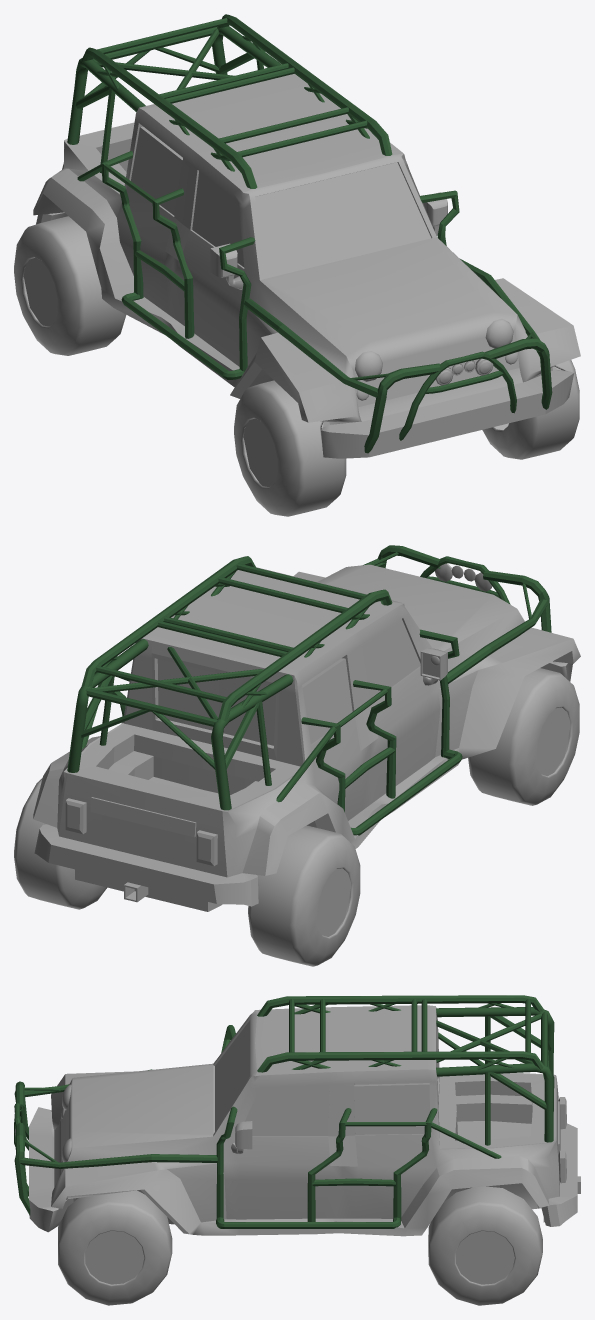
Rendered from JeepForGame1.fbx.
The picture shows the model from 3 angles, top to bottom: view 1: azimuth 30°, elevation 25°; view 2: azimuth 150°, elevation 25°; view 3: azimuth 270°, elevation 25°; orthographic projection. The views are drawn at different scales.
Parts seen in each view (by area): view 1: CutBody, Wheel_B_L, Wheel_F_L, JeepRubiconFull:MainBodyGeometryJeepBars, Wheel_F_R, pCylinder16, pCylinder1, pCylinder3, pCylinder4, pCylinder39, polySurface13, pCylinder2 (+9 smaller); view 2: CutBody, Wheel_B_L, Wheel_F_L, JeepRubiconFull:MainBodyGeometryJeepBars, Wheel_B_R, pCylinder16, pCylinder1, pCylinder22, pCylinder3, polySurface13, pCylinder39, pCylinder18 (+12 smaller); view 3: CutBody, Wheel_B_R, Wheel_F_R, JeepRubiconFull:MainBodyGeometryJeepBars, pCylinder16, pCylinder3, polySurface13, pCylinder1, pCylinder4, pCylinder22, pCylinder39, pCylinder9 (+4 smaller).
Boxes of the visible parts, bbox=[...] form: CutBody: bbox=[33, 74, 580, 458]; Wheel_B_L: bbox=[14, 216, 126, 355]; Wheel_F_L: bbox=[234, 380, 346, 516]; JeepRubiconFull:MainBodyGeometryJeepBars: bbox=[81, 14, 392, 188]; Wheel_F_R: bbox=[482, 360, 579, 459]; pCylinder16: bbox=[67, 26, 281, 144]; pCylinder1: bbox=[364, 338, 552, 453]; pCylinder3: bbox=[244, 259, 540, 397]; pCylinder4: bbox=[219, 190, 459, 371]; pCylinder39: bbox=[152, 188, 194, 338]; polySurface13: bbox=[121, 292, 244, 379]; pCylinder2: bbox=[399, 351, 516, 440]; CutBody: bbox=[33, 564, 580, 911]; Wheel_B_L: bbox=[248, 825, 360, 966]; Wheel_F_L: bbox=[468, 668, 579, 805]; JeepRubiconFull:MainBodyGeometryJeepBars: bbox=[81, 556, 392, 722]; Wheel_B_R: bbox=[14, 778, 106, 909]; pCylinder16: bbox=[67, 639, 293, 810]; pCylinder1: bbox=[377, 545, 551, 632]; pCylinder22: bbox=[89, 647, 262, 719]; pCylinder3: bbox=[363, 559, 548, 683]; polySurface13: bbox=[351, 749, 462, 835]; pCylinder39: bbox=[353, 680, 396, 798]; pCylinder18: bbox=[85, 688, 217, 726]; CutBody: bbox=[29, 1005, 580, 1236]; Wheel_B_R: bbox=[428, 1186, 542, 1305]; Wheel_F_R: bbox=[58, 1190, 172, 1305]; JeepRubiconFull:MainBodyGeometryJeepBars: bbox=[257, 995, 543, 1072]; pCylinder16: bbox=[436, 1007, 554, 1142]; pCylinder3: bbox=[19, 1069, 217, 1168]; polySurface13: bbox=[216, 1217, 400, 1228]; pCylinder1: bbox=[14, 1081, 30, 1215]; pCylinder4: bbox=[216, 1025, 237, 1217]; pCylinder22: bbox=[436, 1013, 542, 1063]; pCylinder39: bbox=[307, 1108, 351, 1221]; pCylinder9: bbox=[393, 1108, 437, 1220].
Size of the model in its own units: 5.04 by 4.36 by 9.9.
